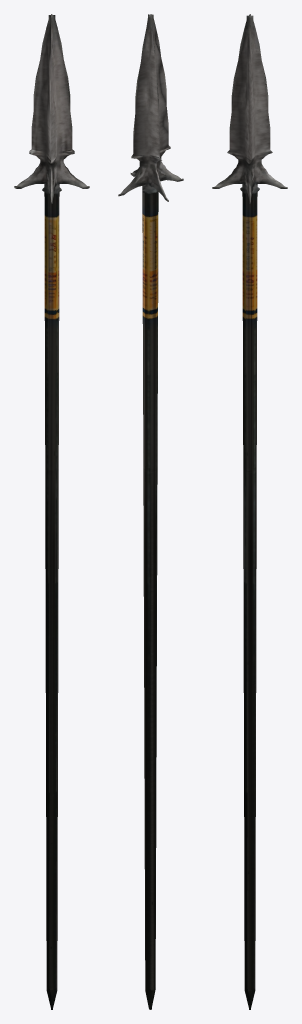
The model's file is Spear.fbx.
The picture shows the model from 3 angles, left to right: view 1: azimuth 90°, elevation 25°; view 2: azimuth 210°, elevation 25°; view 3: azimuth 270°, elevation 25°; orthographic projection.
Parts seen in each view (by area): view 1: tripo_node_c7394253; view 2: tripo_node_c7394253; view 3: tripo_node_c7394253.
Boxes of the visible parts, <box> form: tripo_node_c7394253: <box>14,14,89,1009</box>; tripo_node_c7394253: <box>118,14,183,1009</box>; tripo_node_c7394253: <box>212,14,287,1009</box>.
Bounding box in the file's own units: 6.84 × 6.84 × 99.8.
1 material, 1 textured.
